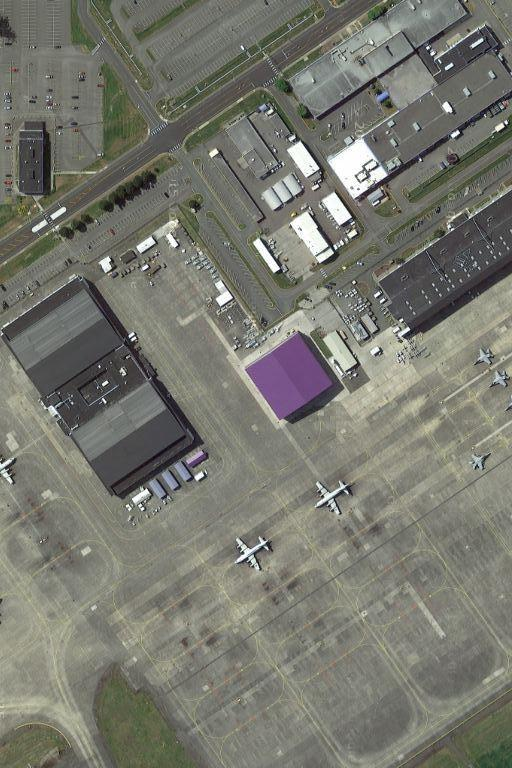EP-3: (227, 531, 275, 577)
F/A-18: (467, 449, 493, 475), (472, 343, 496, 369), (487, 366, 511, 391)
P-3C: (309, 477, 354, 520)
